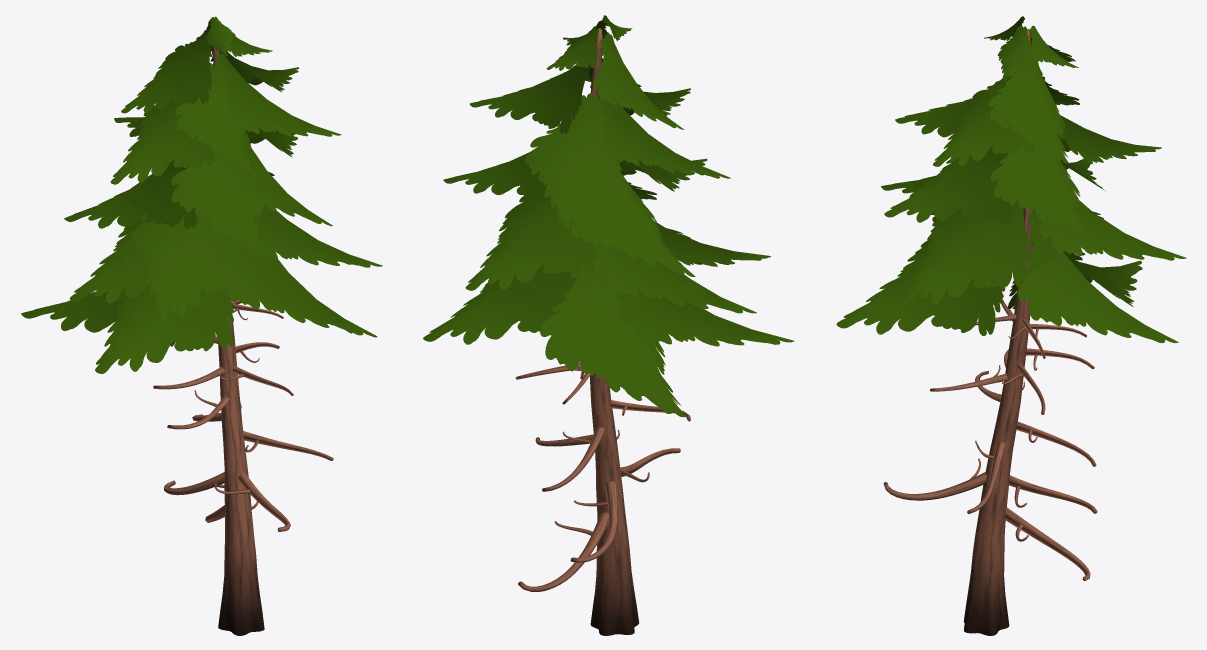
File: Pine_3.gltf
3 renders of one model, left to right at view 1: azimuth 30°, elevation 25°; view 2: azimuth 150°, elevation 25°; view 3: azimuth 270°, elevation 25°, orthographic. The views are drawn at different scales.
Parts seen in each view (by area): view 1: Pine_3; view 2: Pine_3; view 3: Pine_3.
Part boxes in pixels (x1=…): Pine_3: x1=21, y1=16, x2=382, y2=635; Pine_3: x1=423, y1=15, x2=794, y2=635; Pine_3: x1=836, y1=16, x2=1186, y2=635.
Size of the model in its own units: 3.61 by 7.39 by 4.
2 materials, 2 textured.
